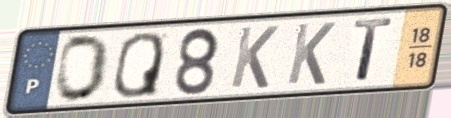8: (173, 25, 220, 97)
K: (227, 24, 282, 90), (284, 20, 338, 87)
O: (53, 32, 113, 105)
Q: (110, 29, 166, 100)
T: (352, 16, 396, 85)
